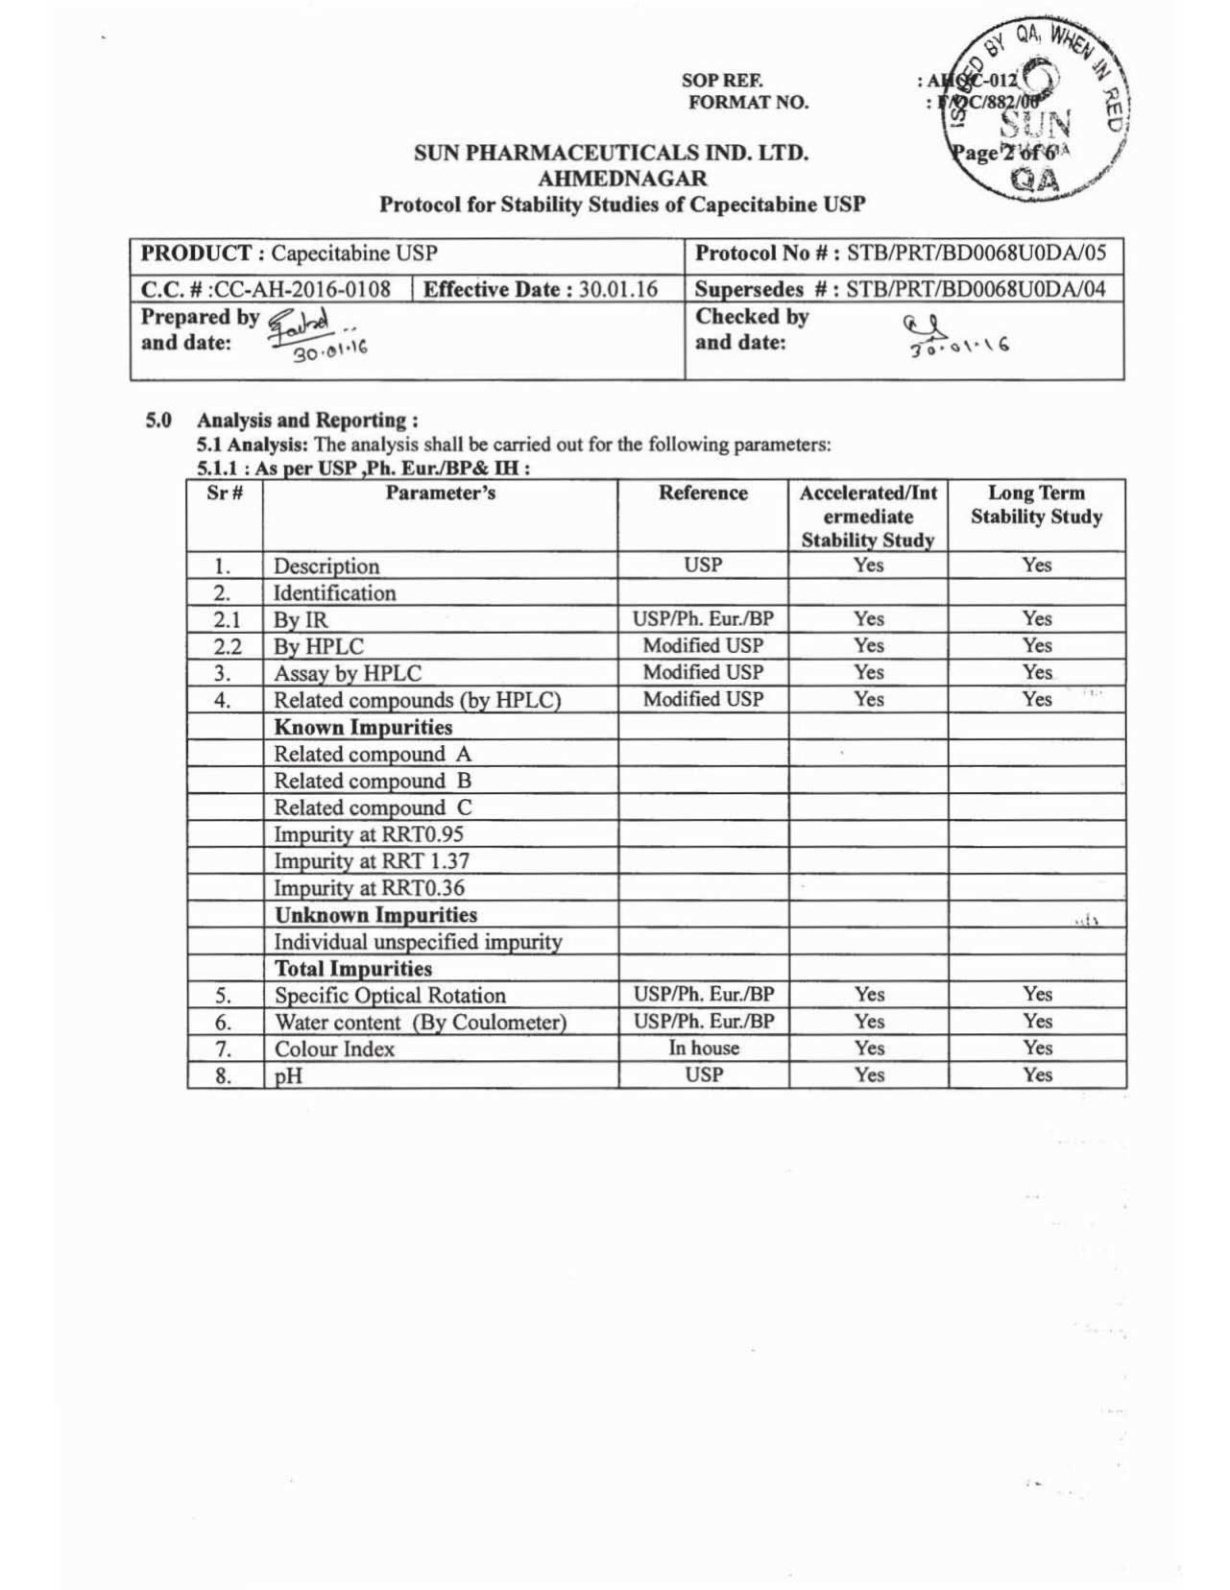full_lined: (185, 478, 1129, 1091), (128, 236, 1125, 382)
